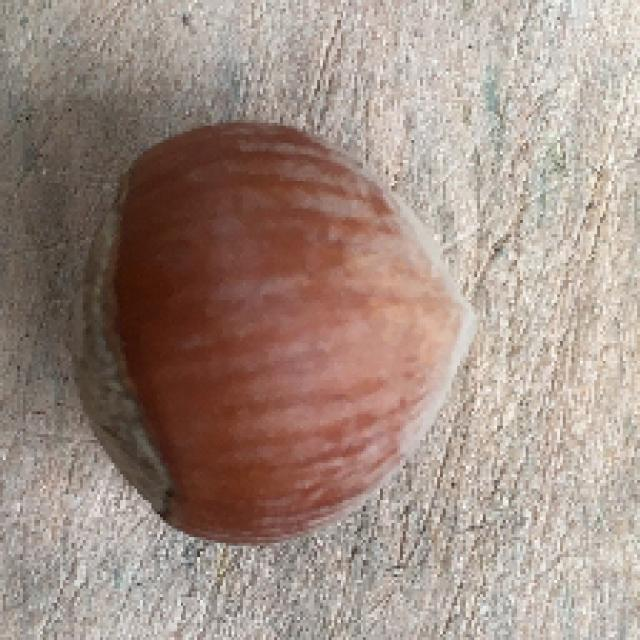qualityHazelnut: (71, 118, 487, 546)
